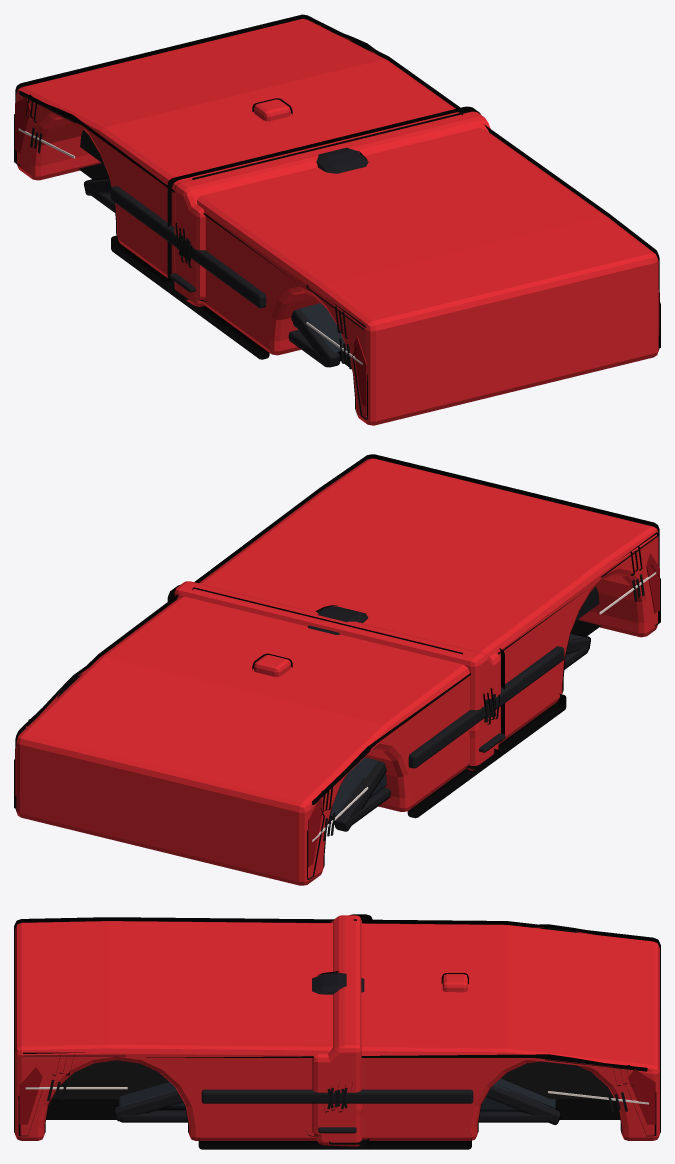
The model's file is SportCar.glb.
3 renders of one model, top to bottom at view 1: azimuth 30°, elevation 25°; view 2: azimuth 150°, elevation 25°; view 3: azimuth 270°, elevation 25°, orthographic. The views are drawn at different scales.
Parts seen in each view (by area): view 1: Sport_Body__E3242B, Sport_Body__000000, Sport_BumperR__E3242B, Sport_Body__18181C, Sport_BumperR__000000, Sport_Cabin__18181C, Sport_BumperF__E3242B, Sport_Body__9E1018, Sport_Cabin__1E232B, Sport_Wheel__16161A; view 2: Sport_Body__E3242B, Sport_Body__000000, Sport_BumperR__E3242B, Sport_Body__18181C, Sport_Cabin__18181C, Sport_Body__9E1018, Sport_Cabin__1E232B, Sport_BumperF__E3242B, Sport_BumperR__000000, Sport_Wheel__16161A; view 3: Sport_Body__E3242B, Sport_Body__000000, Sport_BumperR__E3242B, Sport_Body__141416, Sport_Body__18181C, Sport_Cabin__18181C, Sport_BumperF__E3242B, Sport_Body__9E1018, Sport_Cabin__1E232B, Sport_Wheel__16161A, Sport_Cabin__000000, Sport_Body__FFF1EA (+2 smaller).
Part boxes in pixels (left/top/right/bottom): Sport_Body__E3242B: left=16, top=18, right=658, bottom=425; Sport_Body__000000: left=14, top=14, right=660, bottom=419; Sport_BumperR__E3242B: left=174, top=111, right=490, bottom=306; Sport_Body__18181C: left=110, top=186, right=266, bottom=308; Sport_BumperR__000000: left=167, top=106, right=480, bottom=303; Sport_Cabin__18181C: left=85, top=179, right=339, bottom=366; Sport_BumperF__E3242B: left=174, top=204, right=205, bottom=299; Sport_Body__9E1018: left=15, top=25, right=659, bottom=406; Sport_Cabin__1E232B: left=106, top=179, right=346, bottom=352; Sport_Wheel__16161A: left=316, top=147, right=368, bottom=173; Sport_Body__E3242B: left=16, top=458, right=658, bottom=885; Sport_Body__000000: left=14, top=454, right=660, bottom=879; Sport_BumperR__E3242B: left=174, top=581, right=499, bottom=770; Sport_Body__18181C: left=408, top=646, right=564, bottom=768; Sport_Cabin__18181C: left=334, top=636, right=589, bottom=830; Sport_Body__9E1018: left=15, top=553, right=659, bottom=867; Sport_Cabin__1E232B: left=330, top=634, right=581, bottom=816; Sport_BumperF__E3242B: left=469, top=653, right=500, bottom=743; Sport_BumperR__000000: left=167, top=584, right=494, bottom=775; Sport_Wheel__16161A: left=307, top=606, right=368, bottom=634; Sport_Body__E3242B: left=15, top=921, right=659, bottom=1140; Sport_Body__000000: left=14, top=917, right=660, bottom=1149; Sport_BumperR__E3242B: left=316, top=915, right=361, bottom=1146; Sport_Body__141416: left=52, top=1060, right=613, bottom=1098; Sport_Body__18181C: left=201, top=1089, right=473, bottom=1103; Sport_Cabin__18181C: left=114, top=1085, right=560, bottom=1124; Sport_BumperF__E3242B: left=312, top=1054, right=362, bottom=1136; Sport_Body__9E1018: left=19, top=1067, right=655, bottom=1124; Sport_Cabin__1E232B: left=119, top=1078, right=555, bottom=1111; Sport_Wheel__16161A: left=312, top=972, right=364, bottom=994; Sport_Cabin__000000: left=114, top=1085, right=560, bottom=1124; Sport_Body__FFF1EA: left=25, top=1087, right=648, bottom=1104.
Size of the model in its own units: 7.85 by 2.79 by 15.25.
